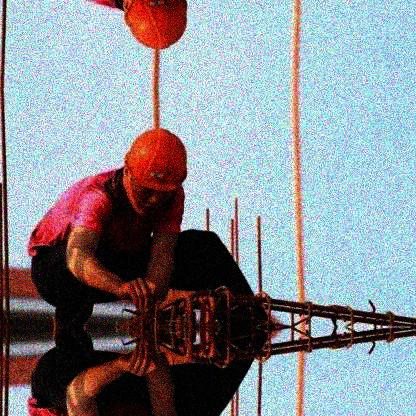helmet: (121, 128, 190, 216)
